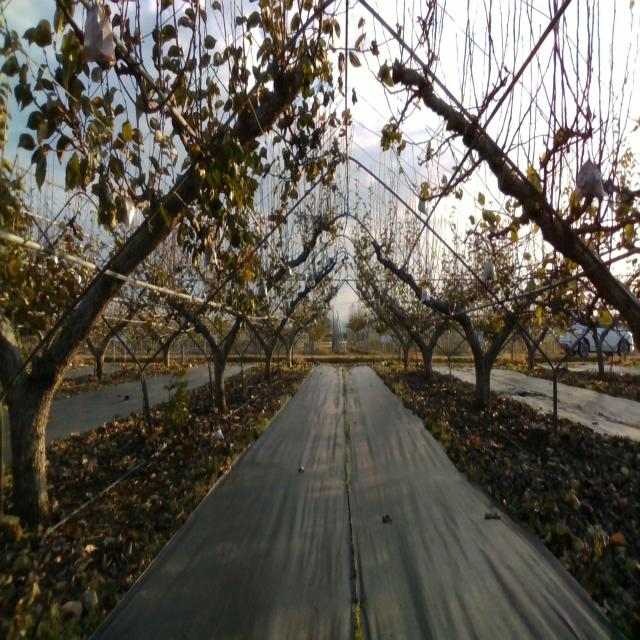pearbags: (81, 0, 116, 66), (577, 152, 604, 200), (120, 191, 137, 229), (481, 262, 497, 281)
